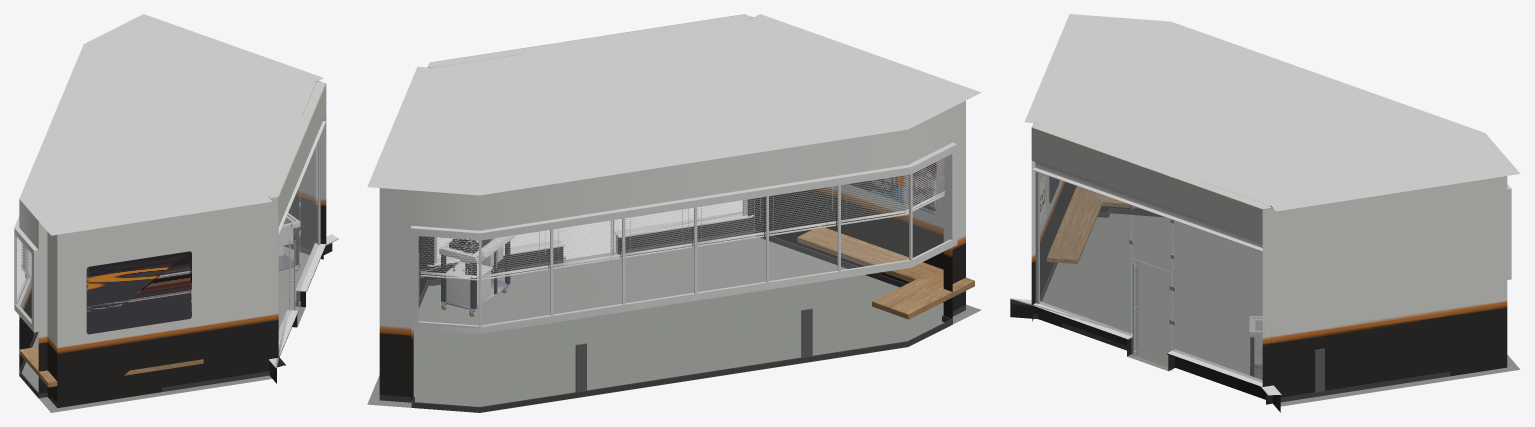
The model's file is Bedo_baked_v2.glb.
3 views of the same model, side by side, from view 1: azimuth 30°, elevation 25°; view 2: azimuth 150°, elevation 25°; view 3: azimuth 270°, elevation 25° (orthographic). The views are drawn at different scales.
Parts seen in each view (by area): view 1: Floor_1st_Floor001, WALLS_INTERNAL_PARTITIONING, White_Board_003, Object10433827, Floor_1st_Floor, window_frame_001, Walls_1st_Level, Shape016, Desks005, Skirting_1st_Floor, Object10433826, Object10433828 (+2 smaller); view 2: Floor_1st_Floor001, Floor_1st_Floor, Shape016, WALLS_INTERNAL_PARTITIONING, Walls_1st_Level, window_frame_001, Object10433828, Skirting_1st_Floor, Desks005, Object10433827, White_Board_003, Object10433826 (+5 smaller); view 3: WALLS_INTERNAL_PARTITIONING, Floor_1st_Floor001, Object10433827, Floor_1st_Floor, Object10433826, window_frame_001, Desks005, Skirting_1st_Floor, ALuminum_Frame014.
Boxes of the visible parts, x1=… form: Floor_1st_Floor001: x1=19, y1=14, x2=323, y2=235; WALLS_INTERNAL_PARTITIONING: x1=38, y1=81, x2=338, y2=407; White_Board_003: x1=86, y1=251, x2=191, y2=334; Object10433827: x1=279, y1=140, x2=318, y2=339; Floor_1st_Floor: x1=21, y1=246, x2=309, y2=412; window_frame_001: x1=14, y1=121, x2=325, y2=332; Walls_1st_Level: x1=19, y1=199, x2=38, y2=370; Shape016: x1=15, y1=235, x2=31, y2=322; Desks005: x1=19, y1=346, x2=203, y2=387; Skirting_1st_Floor: x1=19, y1=244, x2=311, y2=407; Object10433826: x1=291, y1=220, x2=299, y2=328; Object10433828: x1=14, y1=232, x2=32, y2=326; Floor_1st_Floor001: x1=367, y1=14, x2=981, y2=195; Floor_1st_Floor: x1=367, y1=236, x2=981, y2=407; Shape016: x1=418, y1=154, x2=951, y2=326; WALLS_INTERNAL_PARTITIONING: x1=379, y1=14, x2=965, y2=401; Walls_1st_Level: x1=411, y1=107, x2=952, y2=230; window_frame_001: x1=410, y1=142, x2=957, y2=333; Object10433828: x1=415, y1=150, x2=954, y2=329; Skirting_1st_Floor: x1=379, y1=229, x2=965, y2=412; Desks005: x1=797, y1=226, x2=974, y2=319; Object10433827: x1=437, y1=200, x2=742, y2=262; White_Board_003: x1=848, y1=162, x2=936, y2=214; Object10433826: x1=562, y1=220, x2=617, y2=262; WALLS_INTERNAL_PARTITIONING: x1=1010, y1=123, x2=1507, y2=412; Floor_1st_Floor001: x1=1024, y1=14, x2=1520, y2=211; Object10433827: x1=1040, y1=173, x2=1262, y2=382; Floor_1st_Floor: x1=1042, y1=213, x2=1519, y2=406; Object10433826: x1=1131, y1=258, x2=1172, y2=370; window_frame_001: x1=1031, y1=160, x2=1511, y2=279; Desks005: x1=1047, y1=186, x2=1140, y2=263; Skirting_1st_Floor: x1=1033, y1=208, x2=1450, y2=402; ALuminum_Frame014: x1=1035, y1=171, x2=1175, y2=325.
Size of what is drawn, in the model's own units: 7.87 by 3.57 by 8.33.
Materials: 72 (36 with a texture image).
